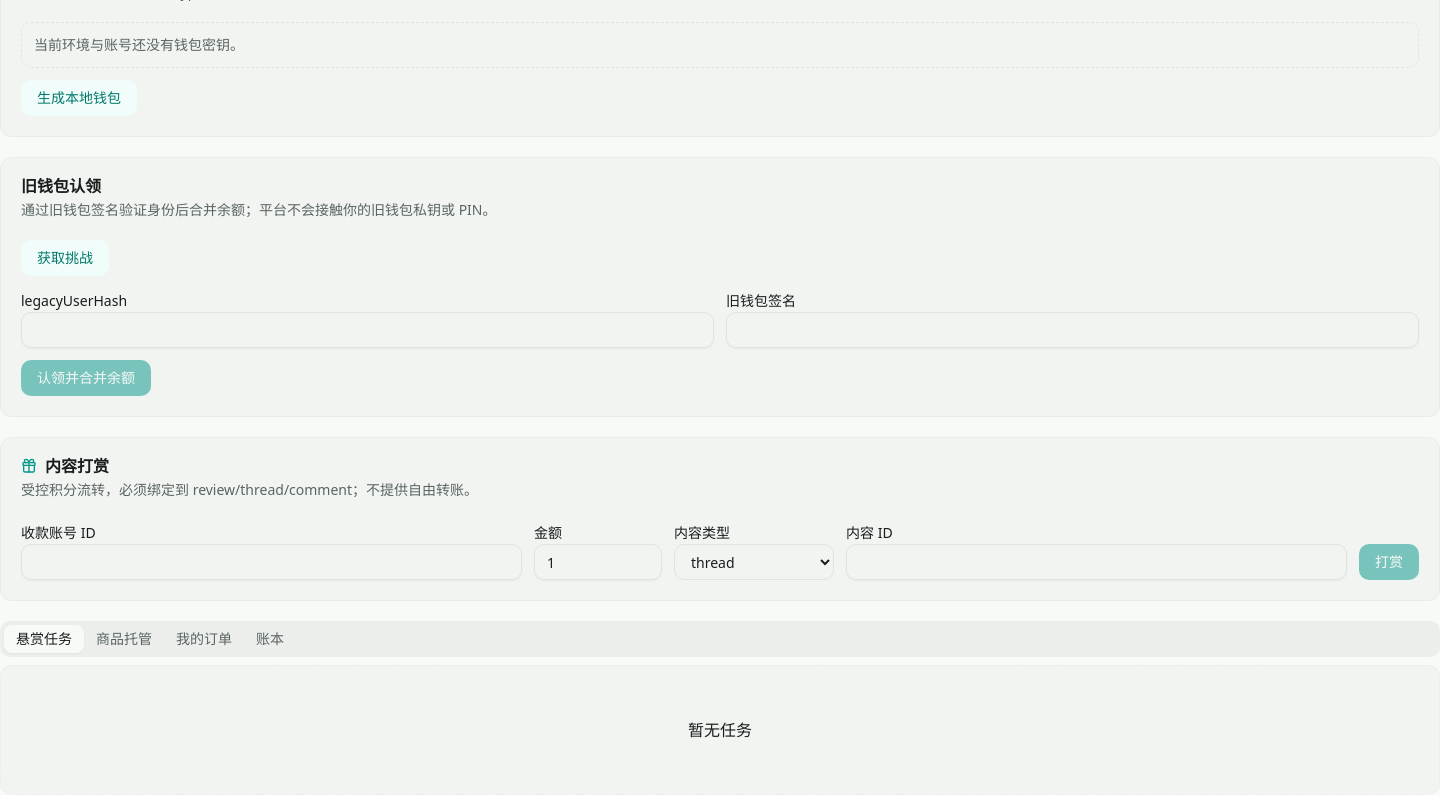
it: WalletPage pending reconciliation › keeps purchase disabled when product id is missing
(page scrolled)
Click the tab "商品托管": x=124, y=639 [84,625,164,653]
(page scrolled)
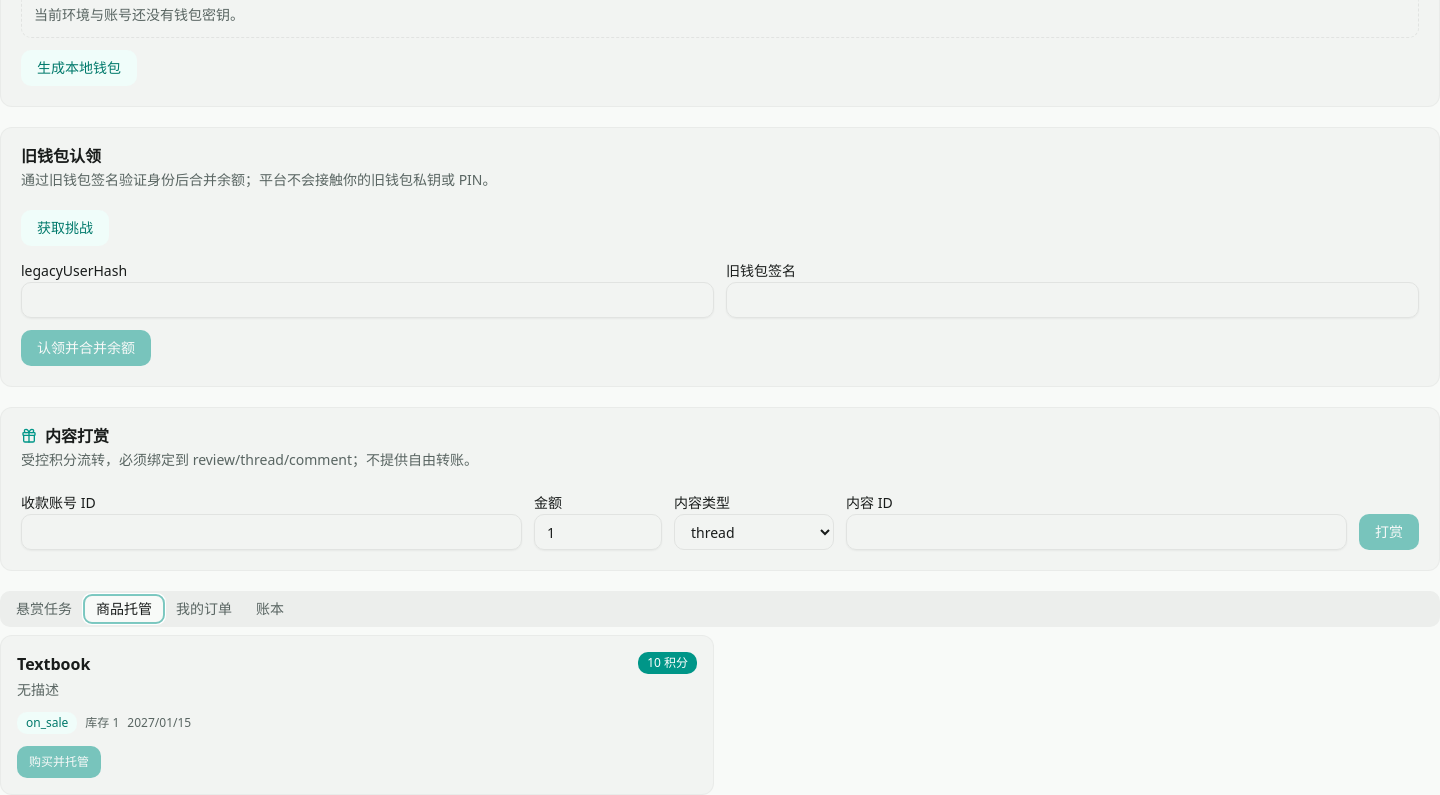
Result: the button "购买并托管" is disabled at [17,746,101,778]
